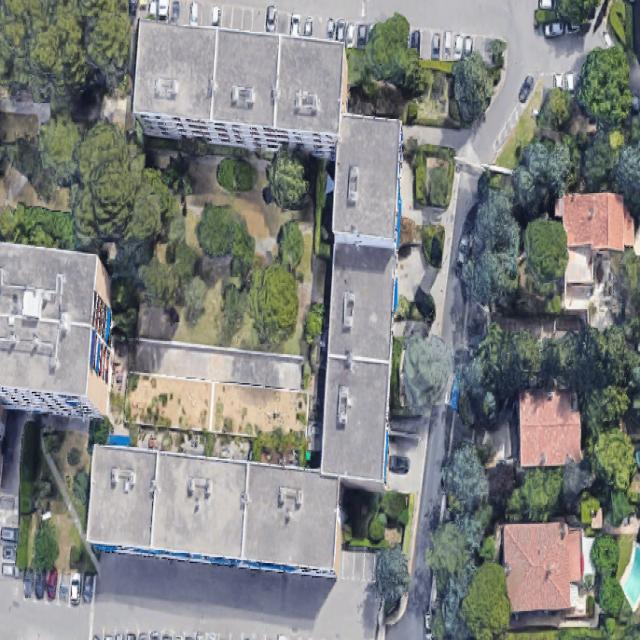immeuble: (80, 446, 350, 580), (126, 20, 353, 159), (0, 242, 113, 418), (330, 114, 401, 248), (320, 356, 390, 482), (327, 244, 394, 358)
maison: (501, 519, 584, 611), (554, 194, 633, 251), (520, 393, 580, 466)
